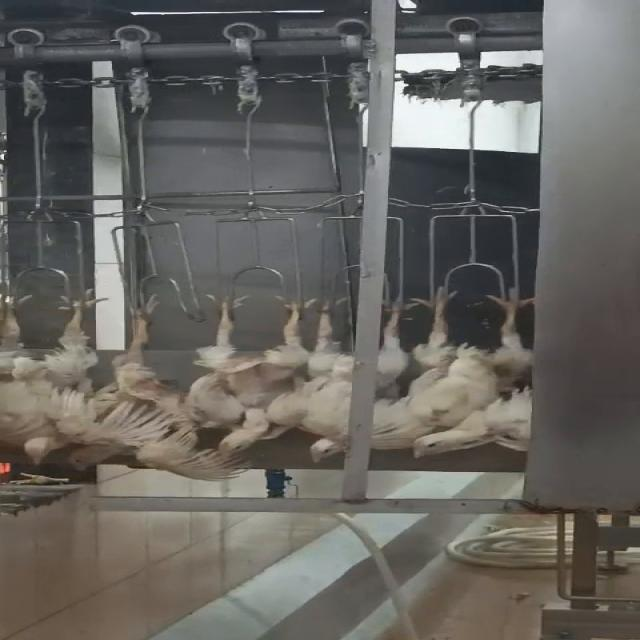chicken: (60, 304, 200, 476), (404, 288, 534, 464), (192, 290, 315, 460), (297, 292, 403, 462), (0, 290, 87, 470)
